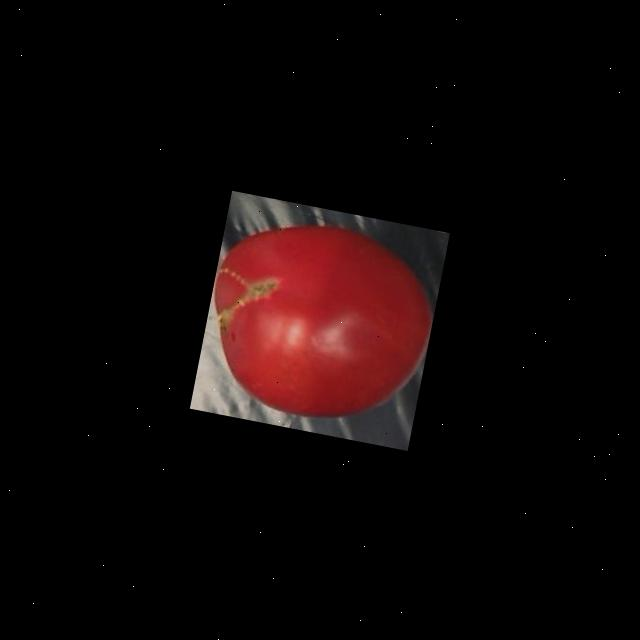tomato: (192, 200, 448, 438)
